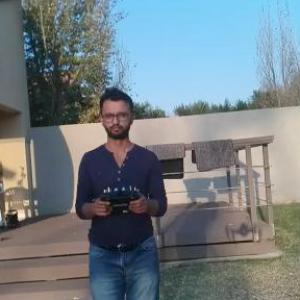follow: (73, 79, 173, 299)
